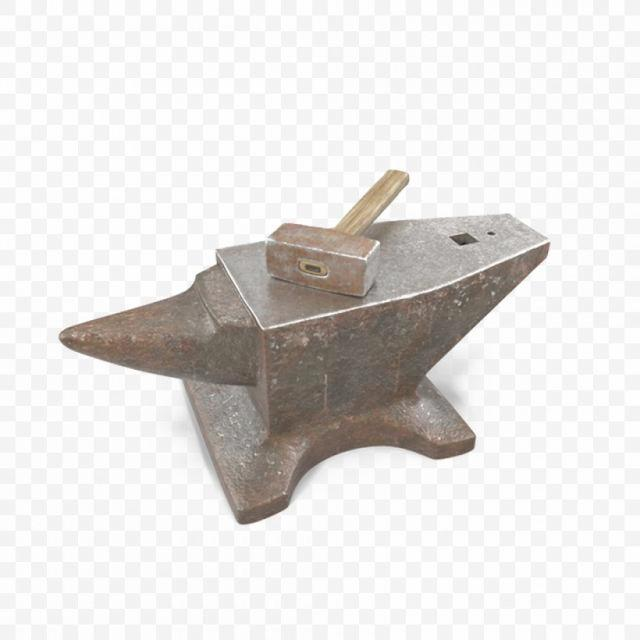hammer: (260, 144, 440, 310)
